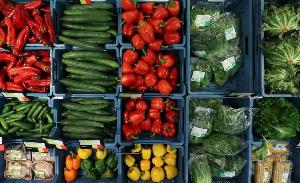bell_pepper: (119, 48, 187, 96), (118, 97, 186, 144), (120, 2, 186, 46), (118, 145, 186, 181), (0, 1, 52, 48), (57, 143, 118, 183), (0, 48, 52, 94)
cucumber: (56, 1, 118, 50), (52, 96, 116, 142), (55, 49, 118, 94), (0, 96, 52, 142)
